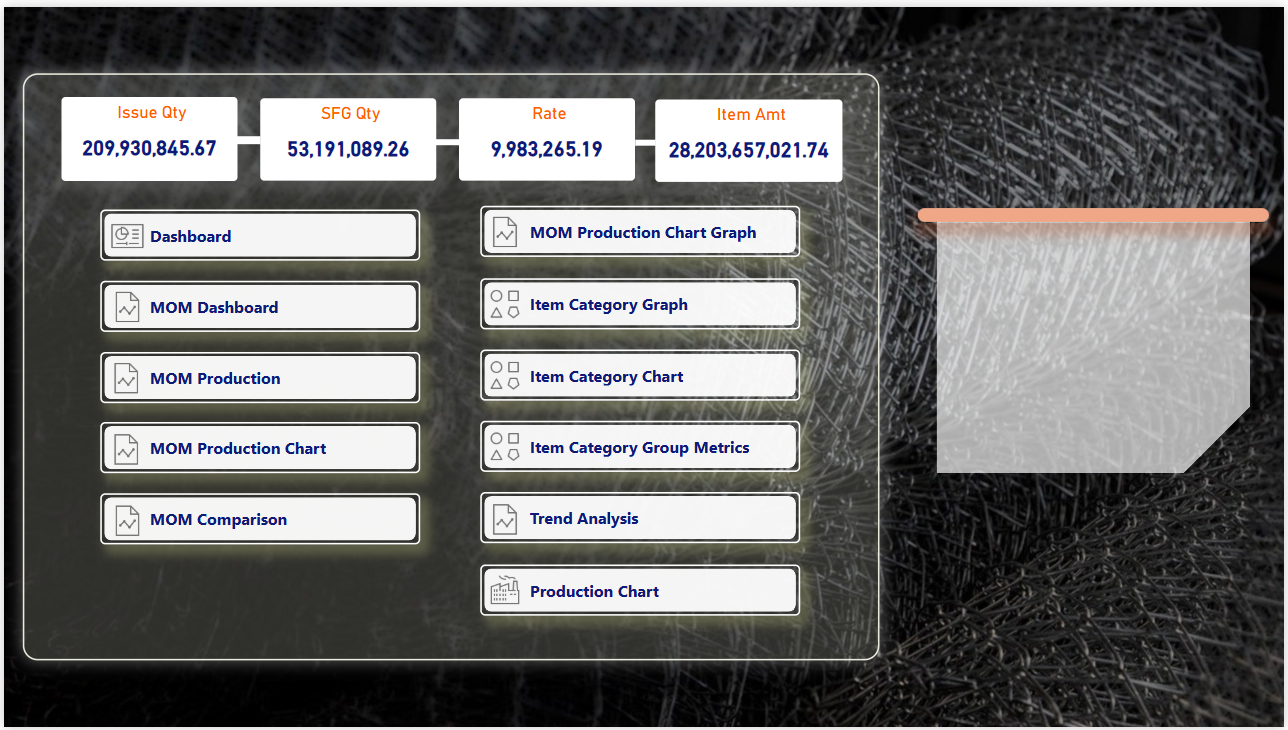

Layout of this report page (visuals, bound fields, positions):
{"tool":"powerbi","page":{"name":"Home","canvas":[1280,720],"ordinal":0},"visuals":[{"type":"shape","box":[932.5,201.2,313.8,265],"z":0},{"type":"shape","box":[18.6,65.7,857.1,587.1],"z":1000},{"type":"card","title":"Issue Qty","fields":{"Values":["Salasar.Issue Qty"]},"box":[57,89.5,176.2,83.8],"z":2000},{"type":"card","title":"SFG Qty","fields":{"Values":["Salasar.SFG Qty"]},"box":[255.7,90.7,176.2,82.5],"z":3000},{"type":"card","title":"Item Amt","fields":{"Values":["Salasar.Total Item Amt"]},"box":[651.2,92.5,187.5,82.5],"z":4000},{"type":"card","title":"Rate","fields":{"Values":["Salasar.Total Rate"]},"box":[454.5,90.7,176.2,82.5],"z":5000},{"type":"shape","box":[231.3,119.6,25.3,26.5],"z":6000},{"type":"shape","box":[430.4,123.2,25.3,22.9],"z":7000},{"type":"shape","box":[630.7,122,20.5,26.5],"z":8000},{"type":"actionButton","box":[95.9,202.5,320,51.2],"z":9000},{"type":"actionButton","box":[95.9,273.5,320,51.2],"z":10000},{"type":"actionButton","box":[95.9,344.5,320,51.2],"z":11000},{"type":"actionButton","box":[95.9,415.5,320,51.2],"z":12000},{"type":"actionButton","box":[95.9,486.5,320,51.2],"z":13000},{"type":"actionButton","box":[475.7,199.2,320,51.2],"z":14000},{"type":"actionButton","box":[475.7,270.8,320,51.2],"z":15000},{"type":"actionButton","box":[475.7,413.9,320,51.2],"z":16000},{"type":"actionButton","box":[475.7,485.5,320,51.2],"z":17000},{"type":"actionButton","box":[475.7,557,320,51.2],"z":18000},{"type":"image","box":[96,207,53.8,43.8],"z":19000},{"type":"image","box":[97.3,278.3,52.5,42.5],"z":20000},{"type":"image","box":[96,349.5,52.5,42.5],"z":21000},{"type":"image","box":[96,420.8,52.5,42.5],"z":22000},{"type":"image","box":[97.3,492,52.5,42.5],"z":23000},{"type":"image","box":[474.6,204.2,52.5,42.5],"z":24000},{"type":"image","box":[474.6,562.5,52.5,41.2],"z":25000},{"type":"actionButton","box":[475.7,342.3,320,51.2],"z":26000},{"type":"shape","box":[913.8,200,351.2,16.2],"z":27000},{"type":"image","box":[474.6,275.9,52.5,42.5],"z":28000},{"type":"image","box":[474.6,347.5,52.5,42.5],"z":29000},{"type":"image","box":[474.6,419.2,52.5,42.5],"z":30000},{"type":"image","box":[474.6,490.8,52.5,42.5],"z":31000}]}

Visuals, with their boxes in screenshot pixels (x1, y1, x2, y2), scaled from the page's 1280x720 canvas onto the 1288x730 screenshot:
shape: 938/204/1254/473
shape: 19/67/881/662
"Issue Qty" card: 57/91/235/176
"SFG Qty" card: 257/92/435/176
"Item Amt" card: 655/94/844/177
"Rate" card: 457/92/635/176
shape: 233/121/258/148
shape: 433/125/459/148
shape: 635/124/655/151
actionButton: 96/205/418/257
actionButton: 96/277/418/329
actionButton: 96/349/418/401
actionButton: 96/421/418/473
actionButton: 96/493/418/545
actionButton: 479/202/801/254
actionButton: 479/275/801/326
actionButton: 479/420/801/472
actionButton: 479/492/801/544
actionButton: 479/565/801/617
image: 97/210/151/254
image: 98/282/151/325
image: 97/354/149/397
image: 97/427/149/470
image: 98/499/151/542
image: 478/207/530/250
image: 478/570/530/612
actionButton: 479/347/801/399
shape: 920/203/1273/219
image: 478/280/530/323
image: 478/352/530/395
image: 478/425/530/468
image: 478/498/530/541
